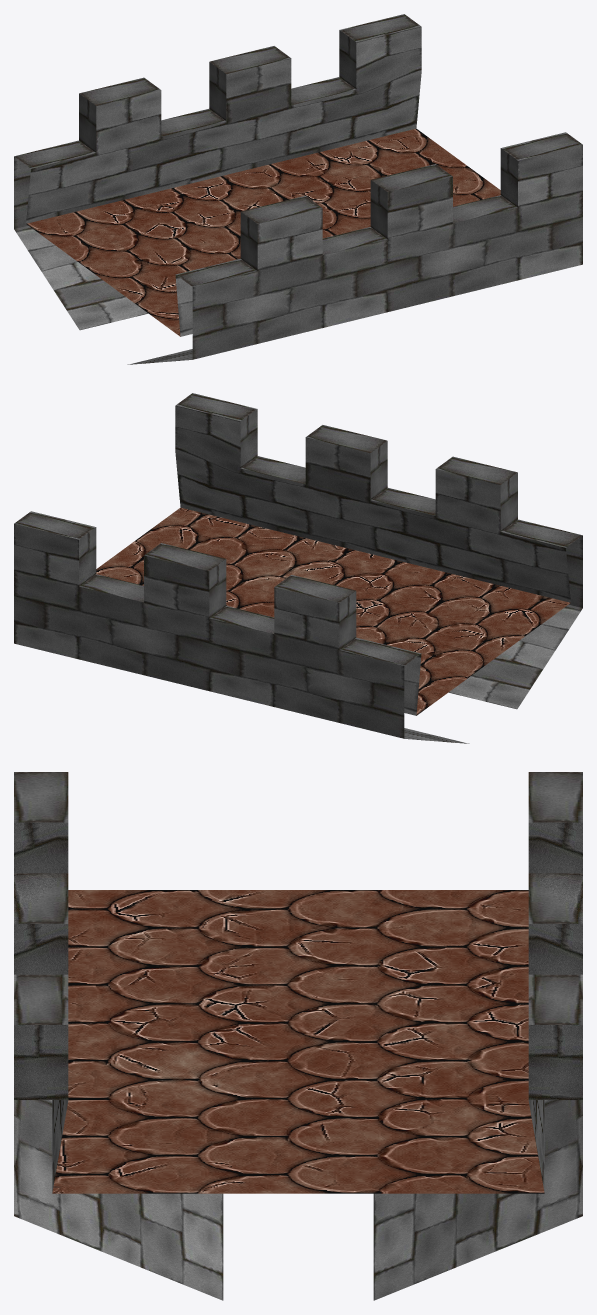
The model's file is CityWall_WalkWay.fbx.
The picture shows the model from 3 angles, top to bottom: view 1: azimuth 30°, elevation 25°; view 2: azimuth 150°, elevation 25°; view 3: azimuth 270°, elevation 25°; orthographic projection. The views are drawn at different scales.
Parts seen in each view (by area): view 1: WalkWayWall, WalkWayFloor; view 2: WalkWayWall, WalkWayFloor; view 3: WalkWayFloor, WalkWayWall.
Boxes of the visible parts, x1,y1,x2,y2 form: WalkWayWall: [14, 14, 582, 364]; WalkWayFloor: [26, 128, 500, 336]; WalkWayWall: [14, 393, 582, 743]; WalkWayFloor: [96, 507, 570, 715]; WalkWayFloor: [52, 890, 544, 1193]; WalkWayWall: [14, 772, 582, 1300].
Bounding box in the file's own units: 5.29 × 2.24 × 4.19.
2 materials, 2 textured.
